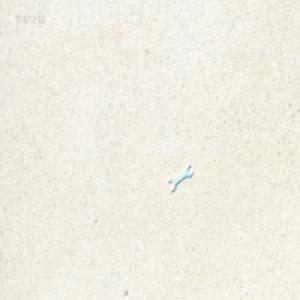Wrench: (166, 160, 190, 189)
